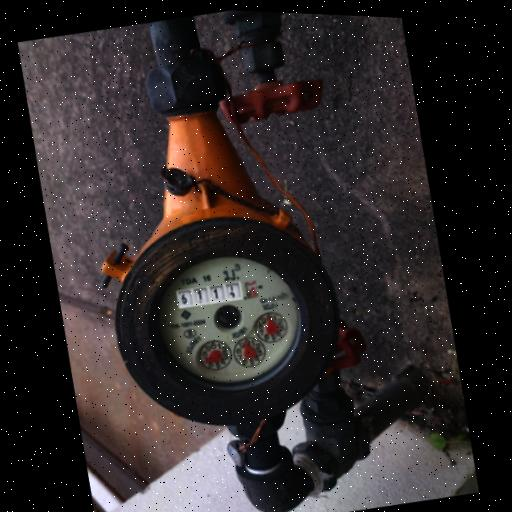1: (194, 288, 209, 304), (210, 285, 224, 302), (227, 282, 241, 299)
4: (244, 281, 258, 298)
6: (178, 290, 193, 306)
border_water_meter_number: (175, 276, 260, 313)
